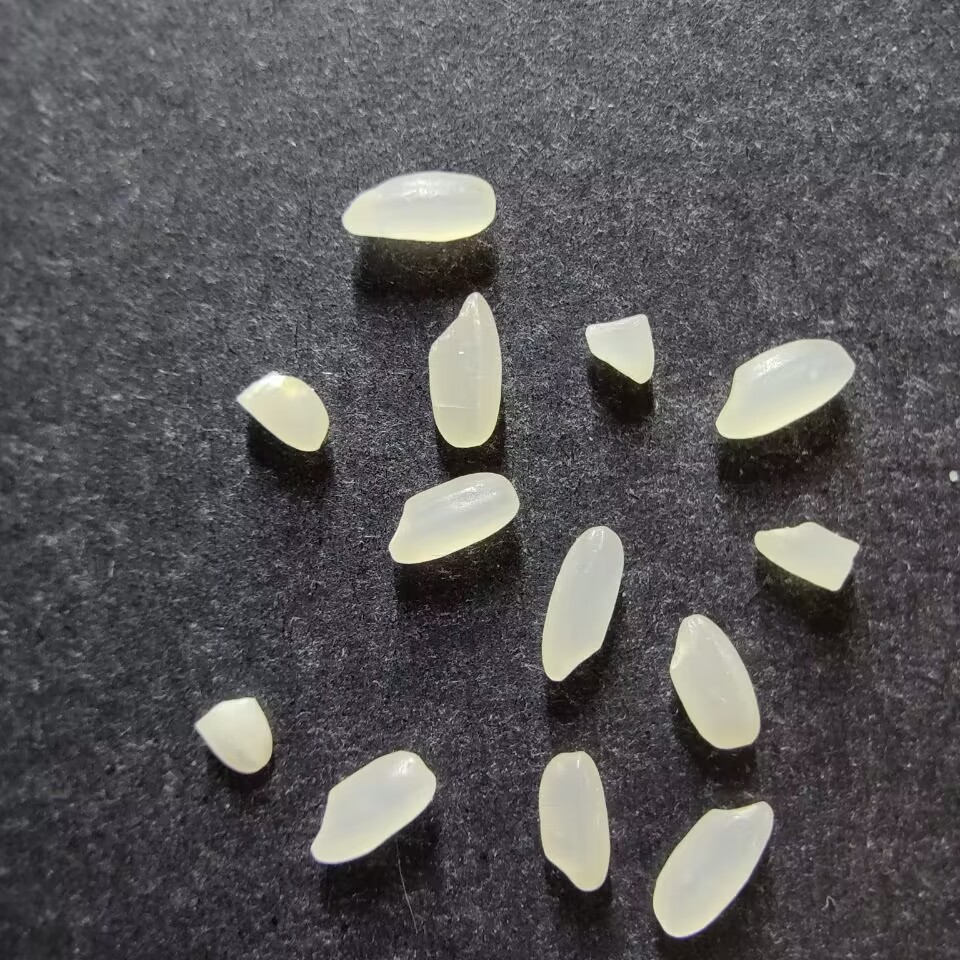broken: (236, 371, 329, 453), (753, 521, 860, 591), (194, 697, 273, 774), (584, 313, 654, 384)
rice: (652, 800, 774, 938), (310, 749, 436, 864), (715, 338, 854, 439), (540, 525, 623, 682), (668, 613, 760, 750), (387, 471, 520, 564), (427, 291, 502, 447), (341, 170, 496, 242), (537, 750, 610, 891)
